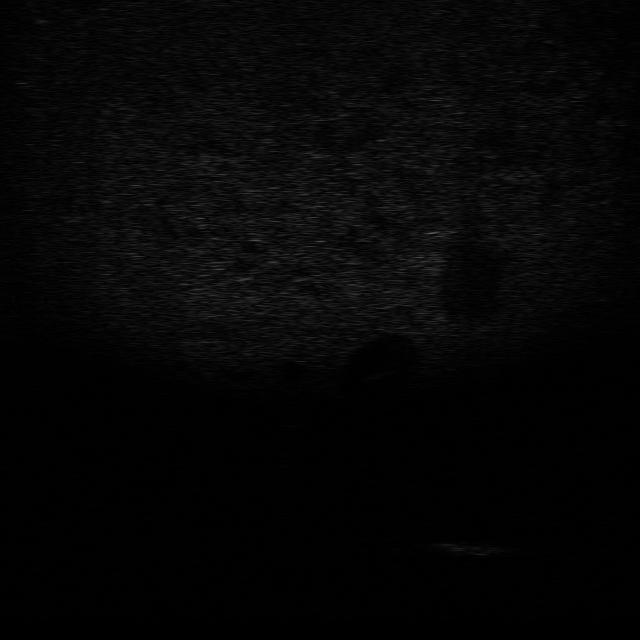ball: (276, 409, 312, 430)
metal bucket: (425, 536, 525, 561)
tyre: (342, 509, 413, 544)
